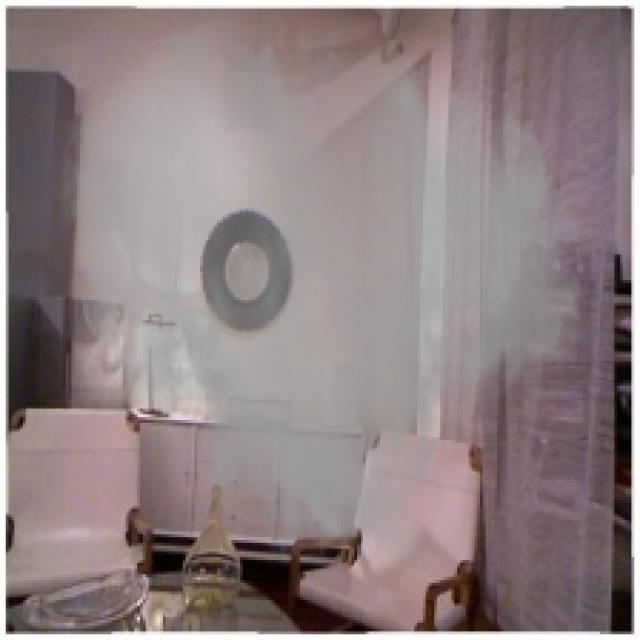Smoke: (57, 14, 589, 580)
